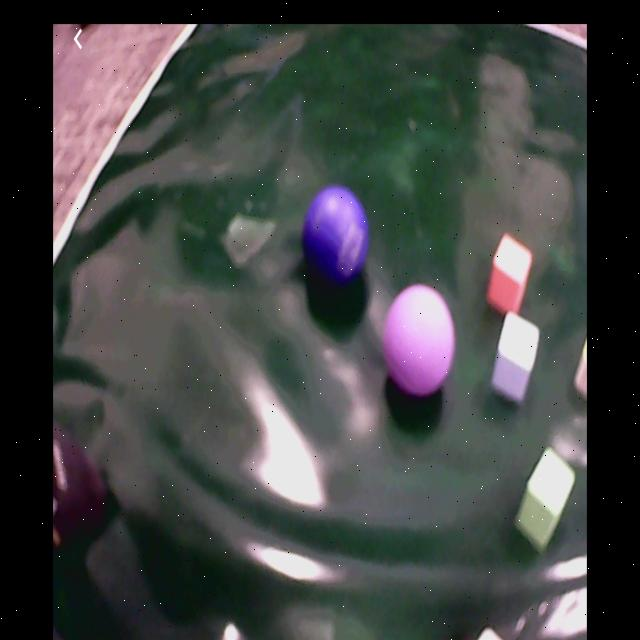ball: (383, 284, 456, 395), (302, 185, 367, 280)
